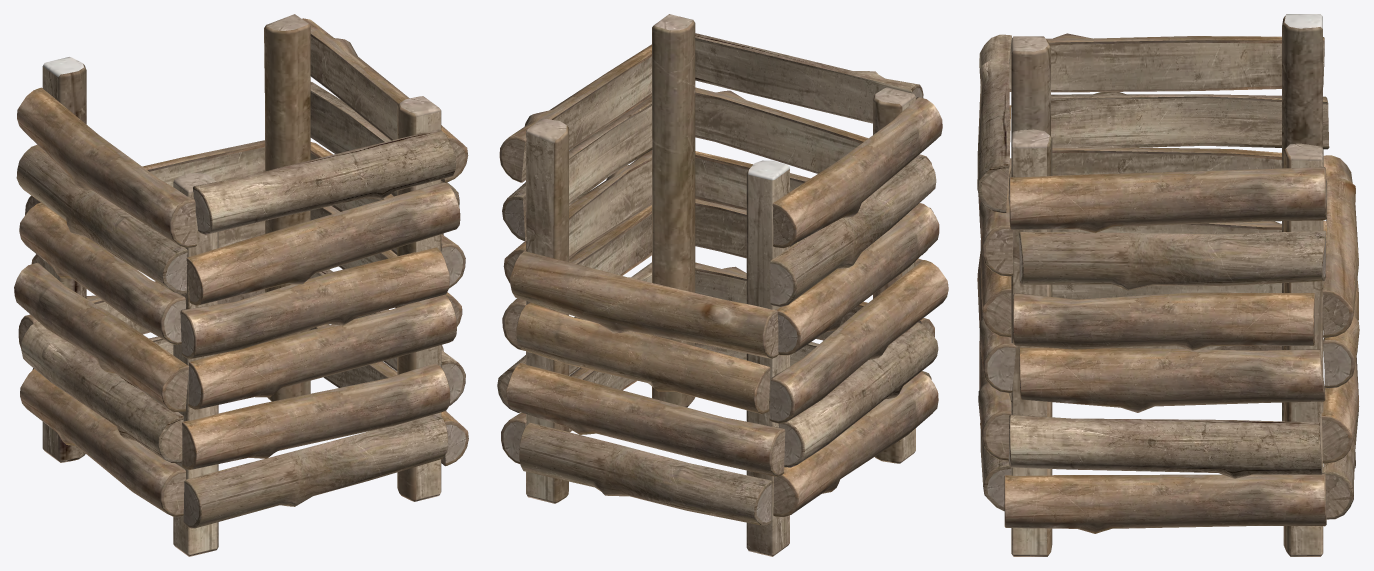
3 renders of one model, left to right at view 1: azimuth 30°, elevation 25°; view 2: azimuth 150°, elevation 25°; view 3: azimuth 270°, elevation 25°, orthographic. The views are drawn at different scales.
Parts seen in each view (by area): view 1: SM_Compost_Bin_01v1_LOD0; view 2: SM_Compost_Bin_01v1_LOD0; view 3: SM_Compost_Bin_01v1_LOD0.
Part boxes in pixels (x1,y1,x2,y2): SM_Compost_Bin_01v1_LOD0: (14, 14, 468, 556); SM_Compost_Bin_01v1_LOD0: (497, 14, 948, 556); SM_Compost_Bin_01v1_LOD0: (977, 14, 1359, 556).
Bounding box in the file's own units: 1.1 × 1.31 × 1.09.
Materials: 2 (2 with a texture image).
